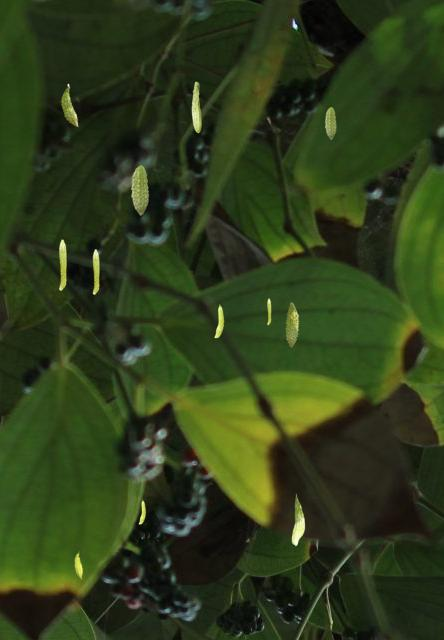ampalaya: (130, 164, 149, 215), (60, 83, 78, 127), (291, 493, 305, 546), (285, 302, 299, 347), (191, 81, 202, 133), (58, 239, 67, 290), (324, 106, 336, 139), (214, 304, 224, 338), (92, 249, 99, 295), (74, 551, 82, 579), (138, 499, 146, 524), (267, 298, 271, 325)
